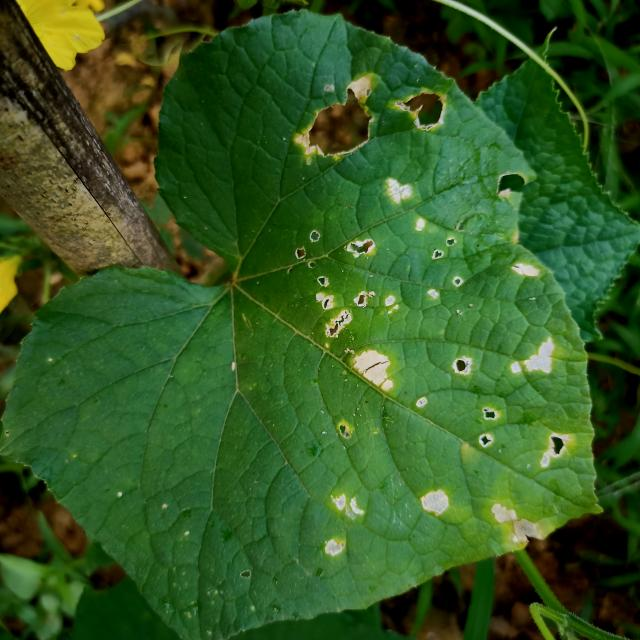disease_cucumber: (290, 229, 398, 342), (294, 74, 374, 171), (318, 493, 366, 560), (395, 87, 447, 138), (507, 334, 562, 382), (349, 348, 396, 397), (491, 504, 539, 545), (474, 403, 502, 449), (536, 432, 568, 467), (419, 486, 450, 518), (384, 177, 413, 210), (450, 353, 477, 377), (509, 262, 542, 281)
